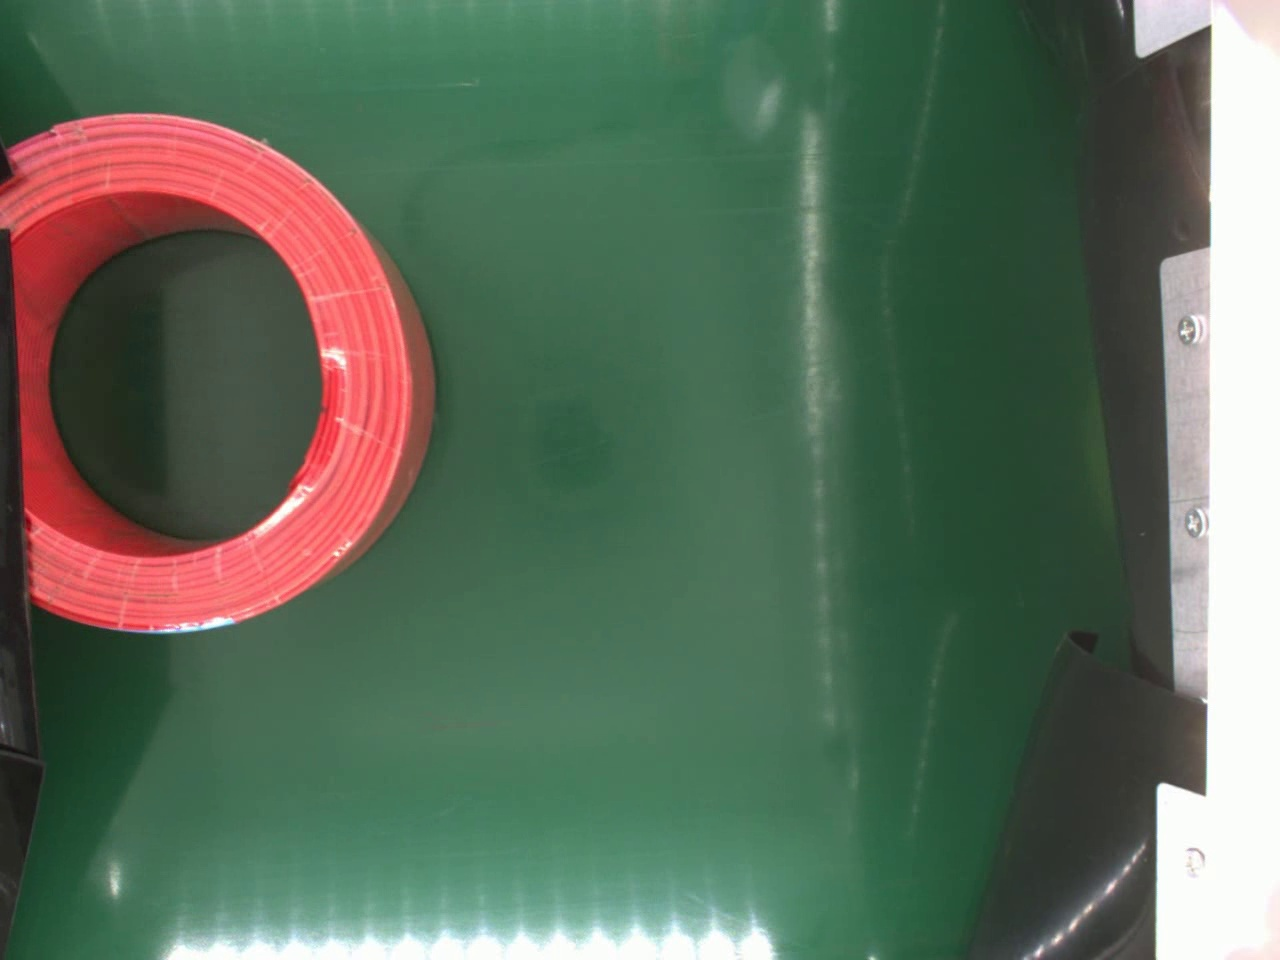red: (1, 108, 436, 637)
